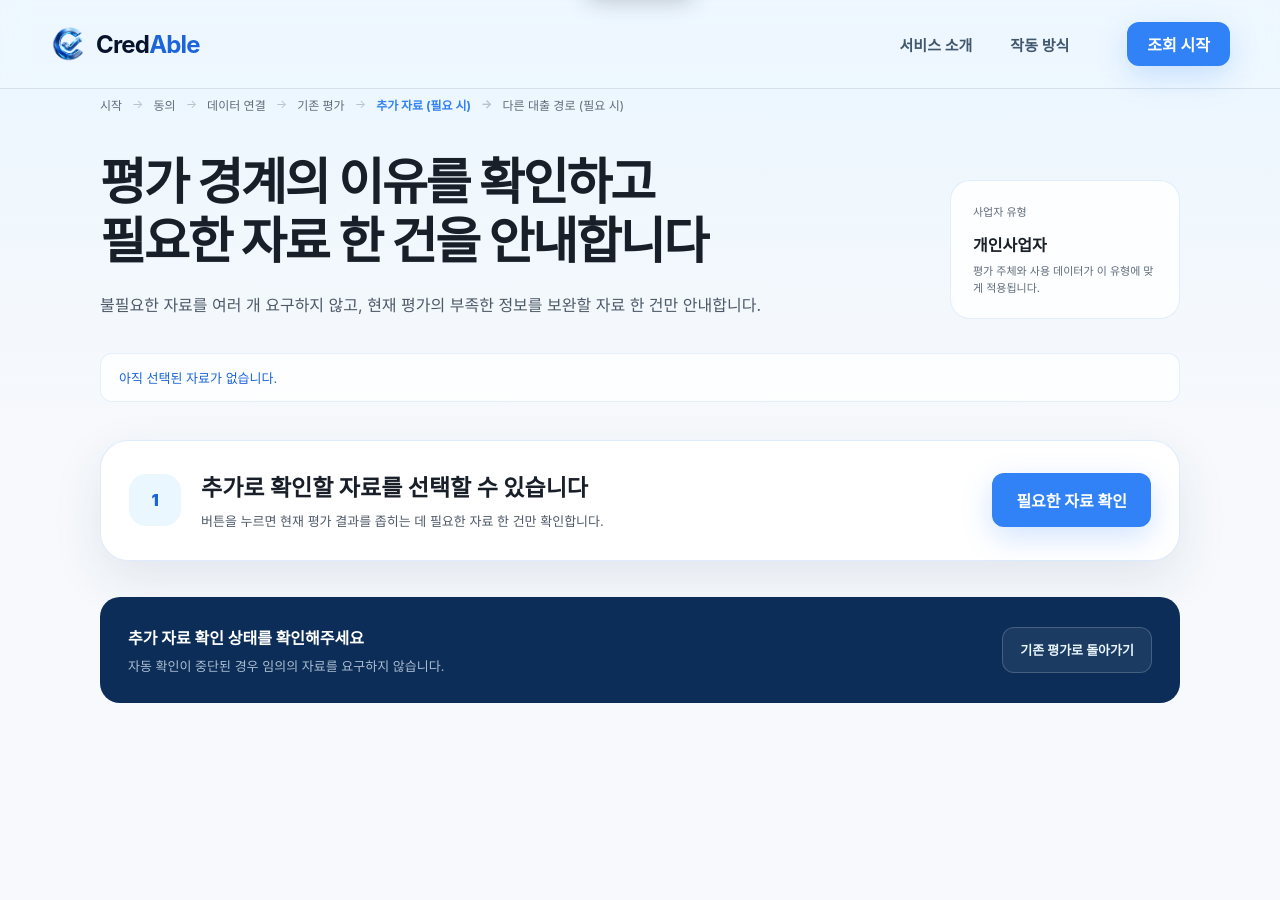
Test case: EvidenceSelectionPage › shows only the single Evidence selected by the server
Click the button "필요한 자료 확인" at x=1072, y=500, box [992,473,1151,527]
(page scrolled)
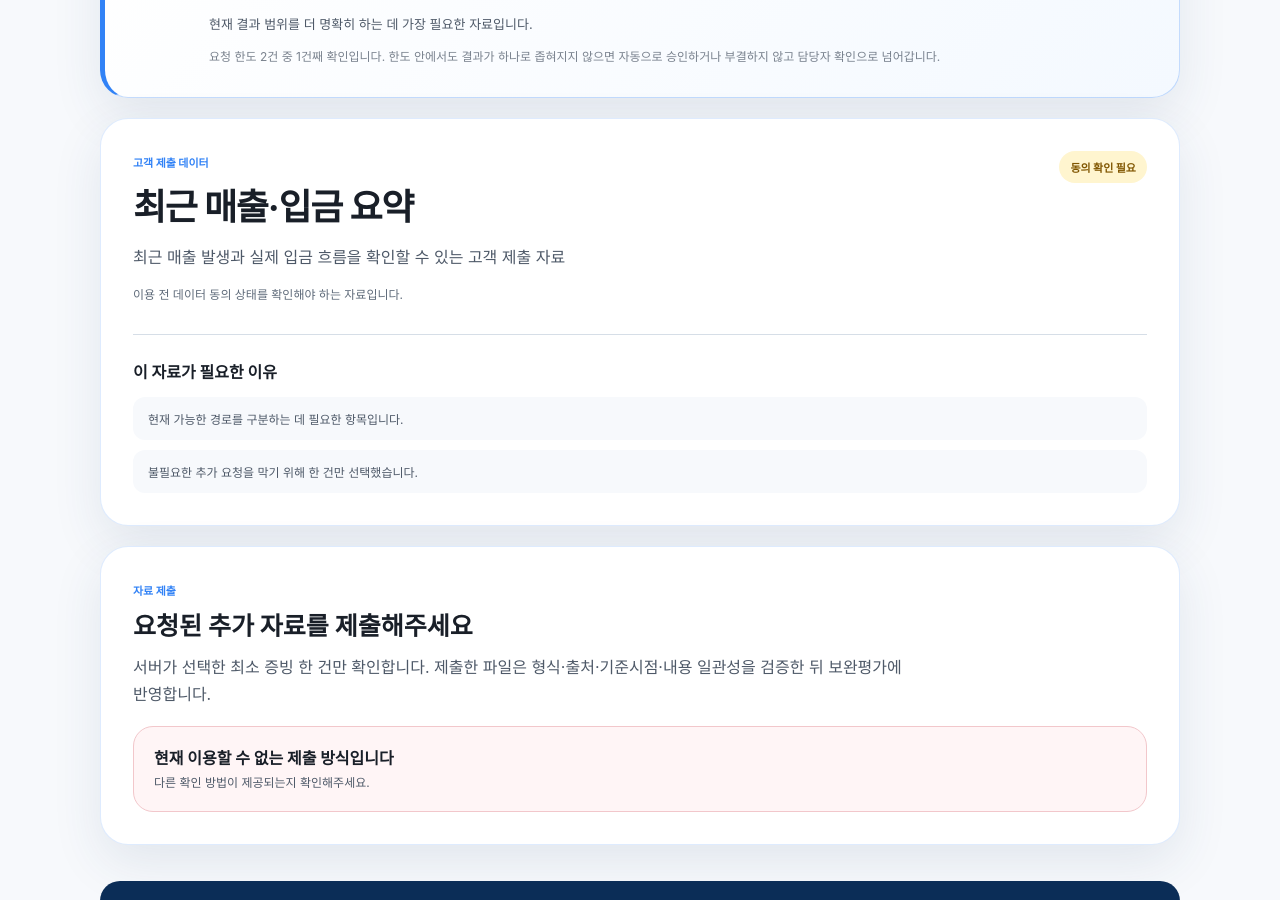
Now the heading "최근 매출·입금 요약" is shown, box [133,178,413,230]
Now the text "동의 확인 필요" is shown, box [1060,151,1147,183]
Now the text "불필요한 추가 요청을 막기 위해 한 건만 선택했습니다." is shown, box [148,463,418,480]
